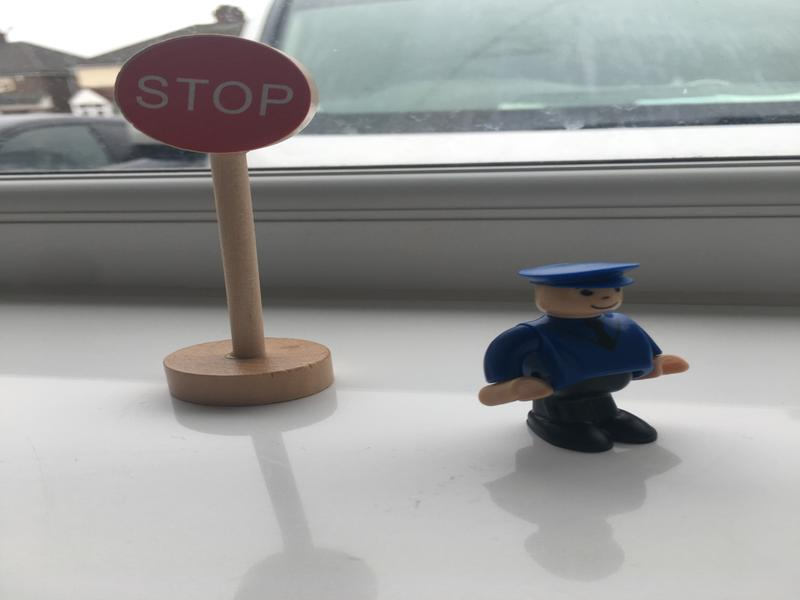Traffic_Sign_Stop: (113, 35, 307, 155)
person: (480, 263, 693, 458)
